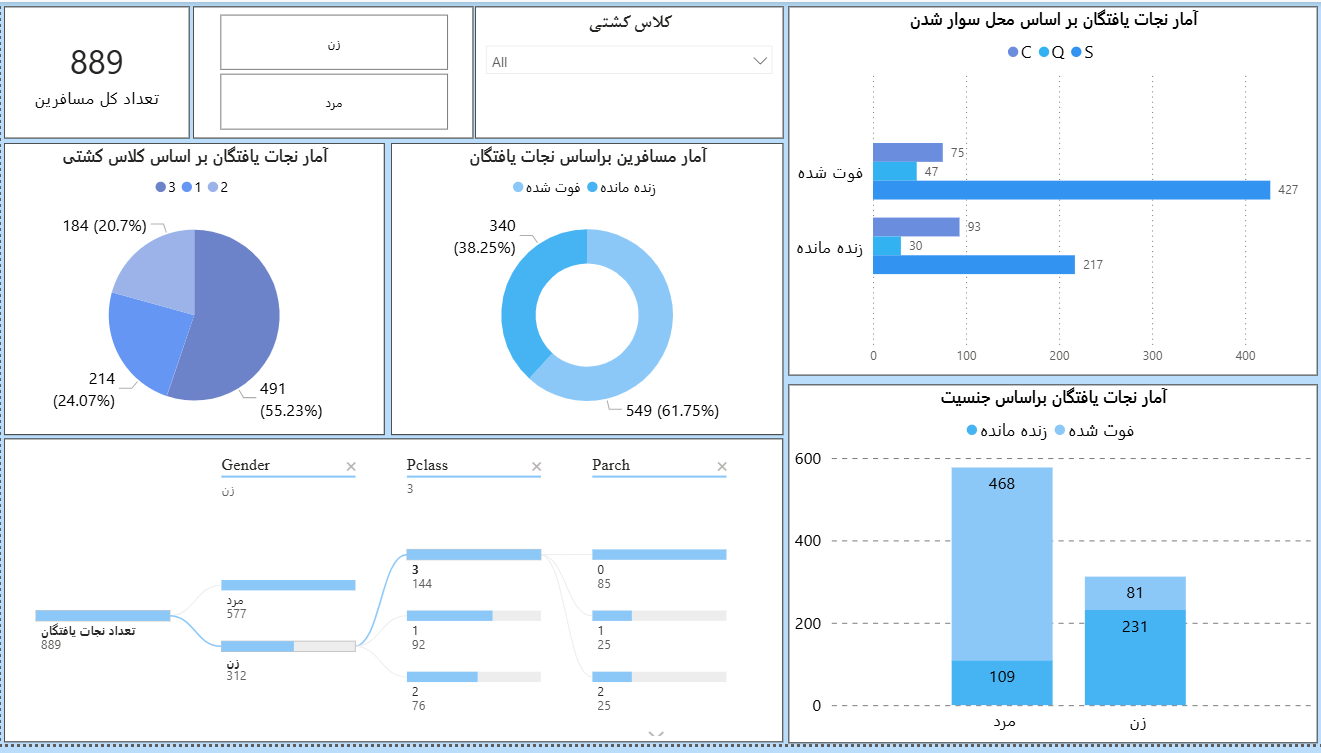

What the dashboard file says about the page in this screenshot:
{"tool":"powerbi","page":{"name":"Page 1","canvas":[1280,720],"ordinal":0},"visuals":[{"type":"pieChart","title":"آمار نجات یافتگان بر اساس کلاس کشتی","fields":{"Category":["Tiatanic.Pclass"],"Y":["CountNonNull(Tiatanic.Survived)"]},"box":[3.2,136.6,369.2,283.4],"z":1000},{"type":"decompositionTreeVisual","fields":{"Analyze":["CountNonNull(Tiatanic.Survived)"],"ExplainBy":["Tiatanic.Gender","Tiatanic.Pclass","Tiatanic.Parch"]},"box":[3.2,424.2,756.2,294.7],"z":3000},{"type":"columnChart","title":"آمار نجات یافتگان براساس جنسیت","fields":{"Y":["CountNonNull(Tiatanic.PassengerId)"],"Series":["Tiatanic.Survived2"],"Category":["Tiatanic.Gender"]},"box":[764.3,370.8,513.3,348.1],"z":4000},{"type":"donutChart","title":"آمار مسافرین براساس نجات یافتگان","fields":{"Y":["CountNonNull(Tiatanic.PassengerId)"],"Category":["Tiatanic.Survived2"]},"box":[378.9,136.6,380.5,283.4],"z":5000},{"type":"clusteredBarChart","title":"آمار نجات یافتگان بر اساس محل سوار شدن","fields":{"Category":["Tiatanic.Survived2"],"Y":["CountNonNull(Tiatanic.PassengerId)"],"Series":["Tiatanic.Embarked"]},"box":[764.3,4.9,513.3,357.8],"z":7000},{"type":"card","fields":{"Values":["CountNonNull(Tiatanic.PassengerId)"]},"box":[3.2,4.9,180,127.9],"z":7001},{"type":"slicer","fields":{"Values":["Tiatanic.Gender"]},"box":[186.2,4.9,272,127.9],"z":7002},{"type":"slicer","title":"کلاس کشتی","fields":{"Values":["Tiatanic.Pclass"]},"box":[459.9,4.9,299.6,127.9],"z":7003}]}

Visuals, with their boxes in screenshot pixels (x1, y1, x2, y2), scaled from the page's 1280x720 canvas onto the 1321x753 screenshot:
"آمار نجات یافتگان بر اساس کلاس کشتی" pieChart: 3, 143, 384, 439
decompositionTreeVisual - CountNonNull(Tiatanic.Survived) x Tiatanic.Gender: 3, 444, 784, 752
"آمار نجات یافتگان براساس جنسیت" columnChart: 789, 388, 1319, 752
"آمار مسافرین براساس نجات یافتگان" donutChart: 391, 143, 784, 439
"آمار نجات یافتگان بر اساس محل سوار شدن" clusteredBarChart: 789, 5, 1319, 379
card - CountNonNull(Tiatanic.PassengerId): 3, 5, 189, 139
slicer - Tiatanic.Gender: 192, 5, 473, 139
"کلاس کشتی" slicer: 475, 5, 784, 139
